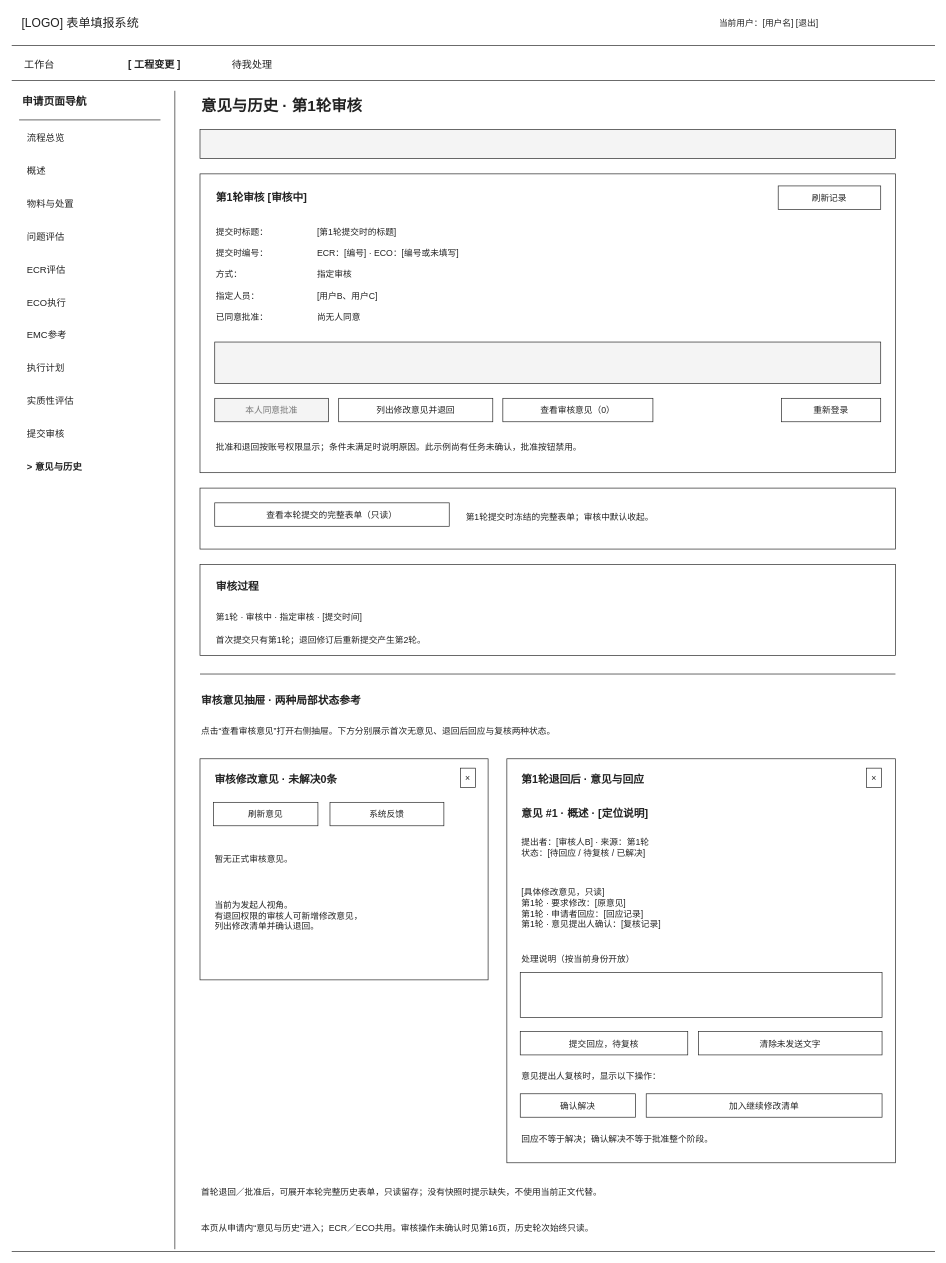
Image size: 946x1263. Some labels were removed from this diagram. The centre of each missing label's shape, as x and y in pixels:
"[申请者填写修改情况或不修改的原因]" goes at [701,994].
"ECR行动已确认1/2项 · 已批准0/2人 · 审核中 任务全部确认、正式意见解决且全部指定批准人同意后，本轮才能通过。" goes at [547,362].
"查看各轮审核、修改意见和回应；意见提出人可按权限复核。" goes at [547,143].
